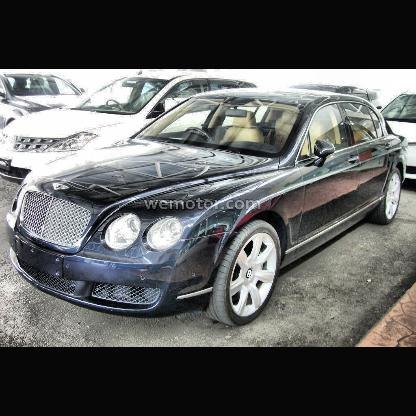Bentley Continental Flying Spur Sedan 2007: (5, 86, 413, 329)
